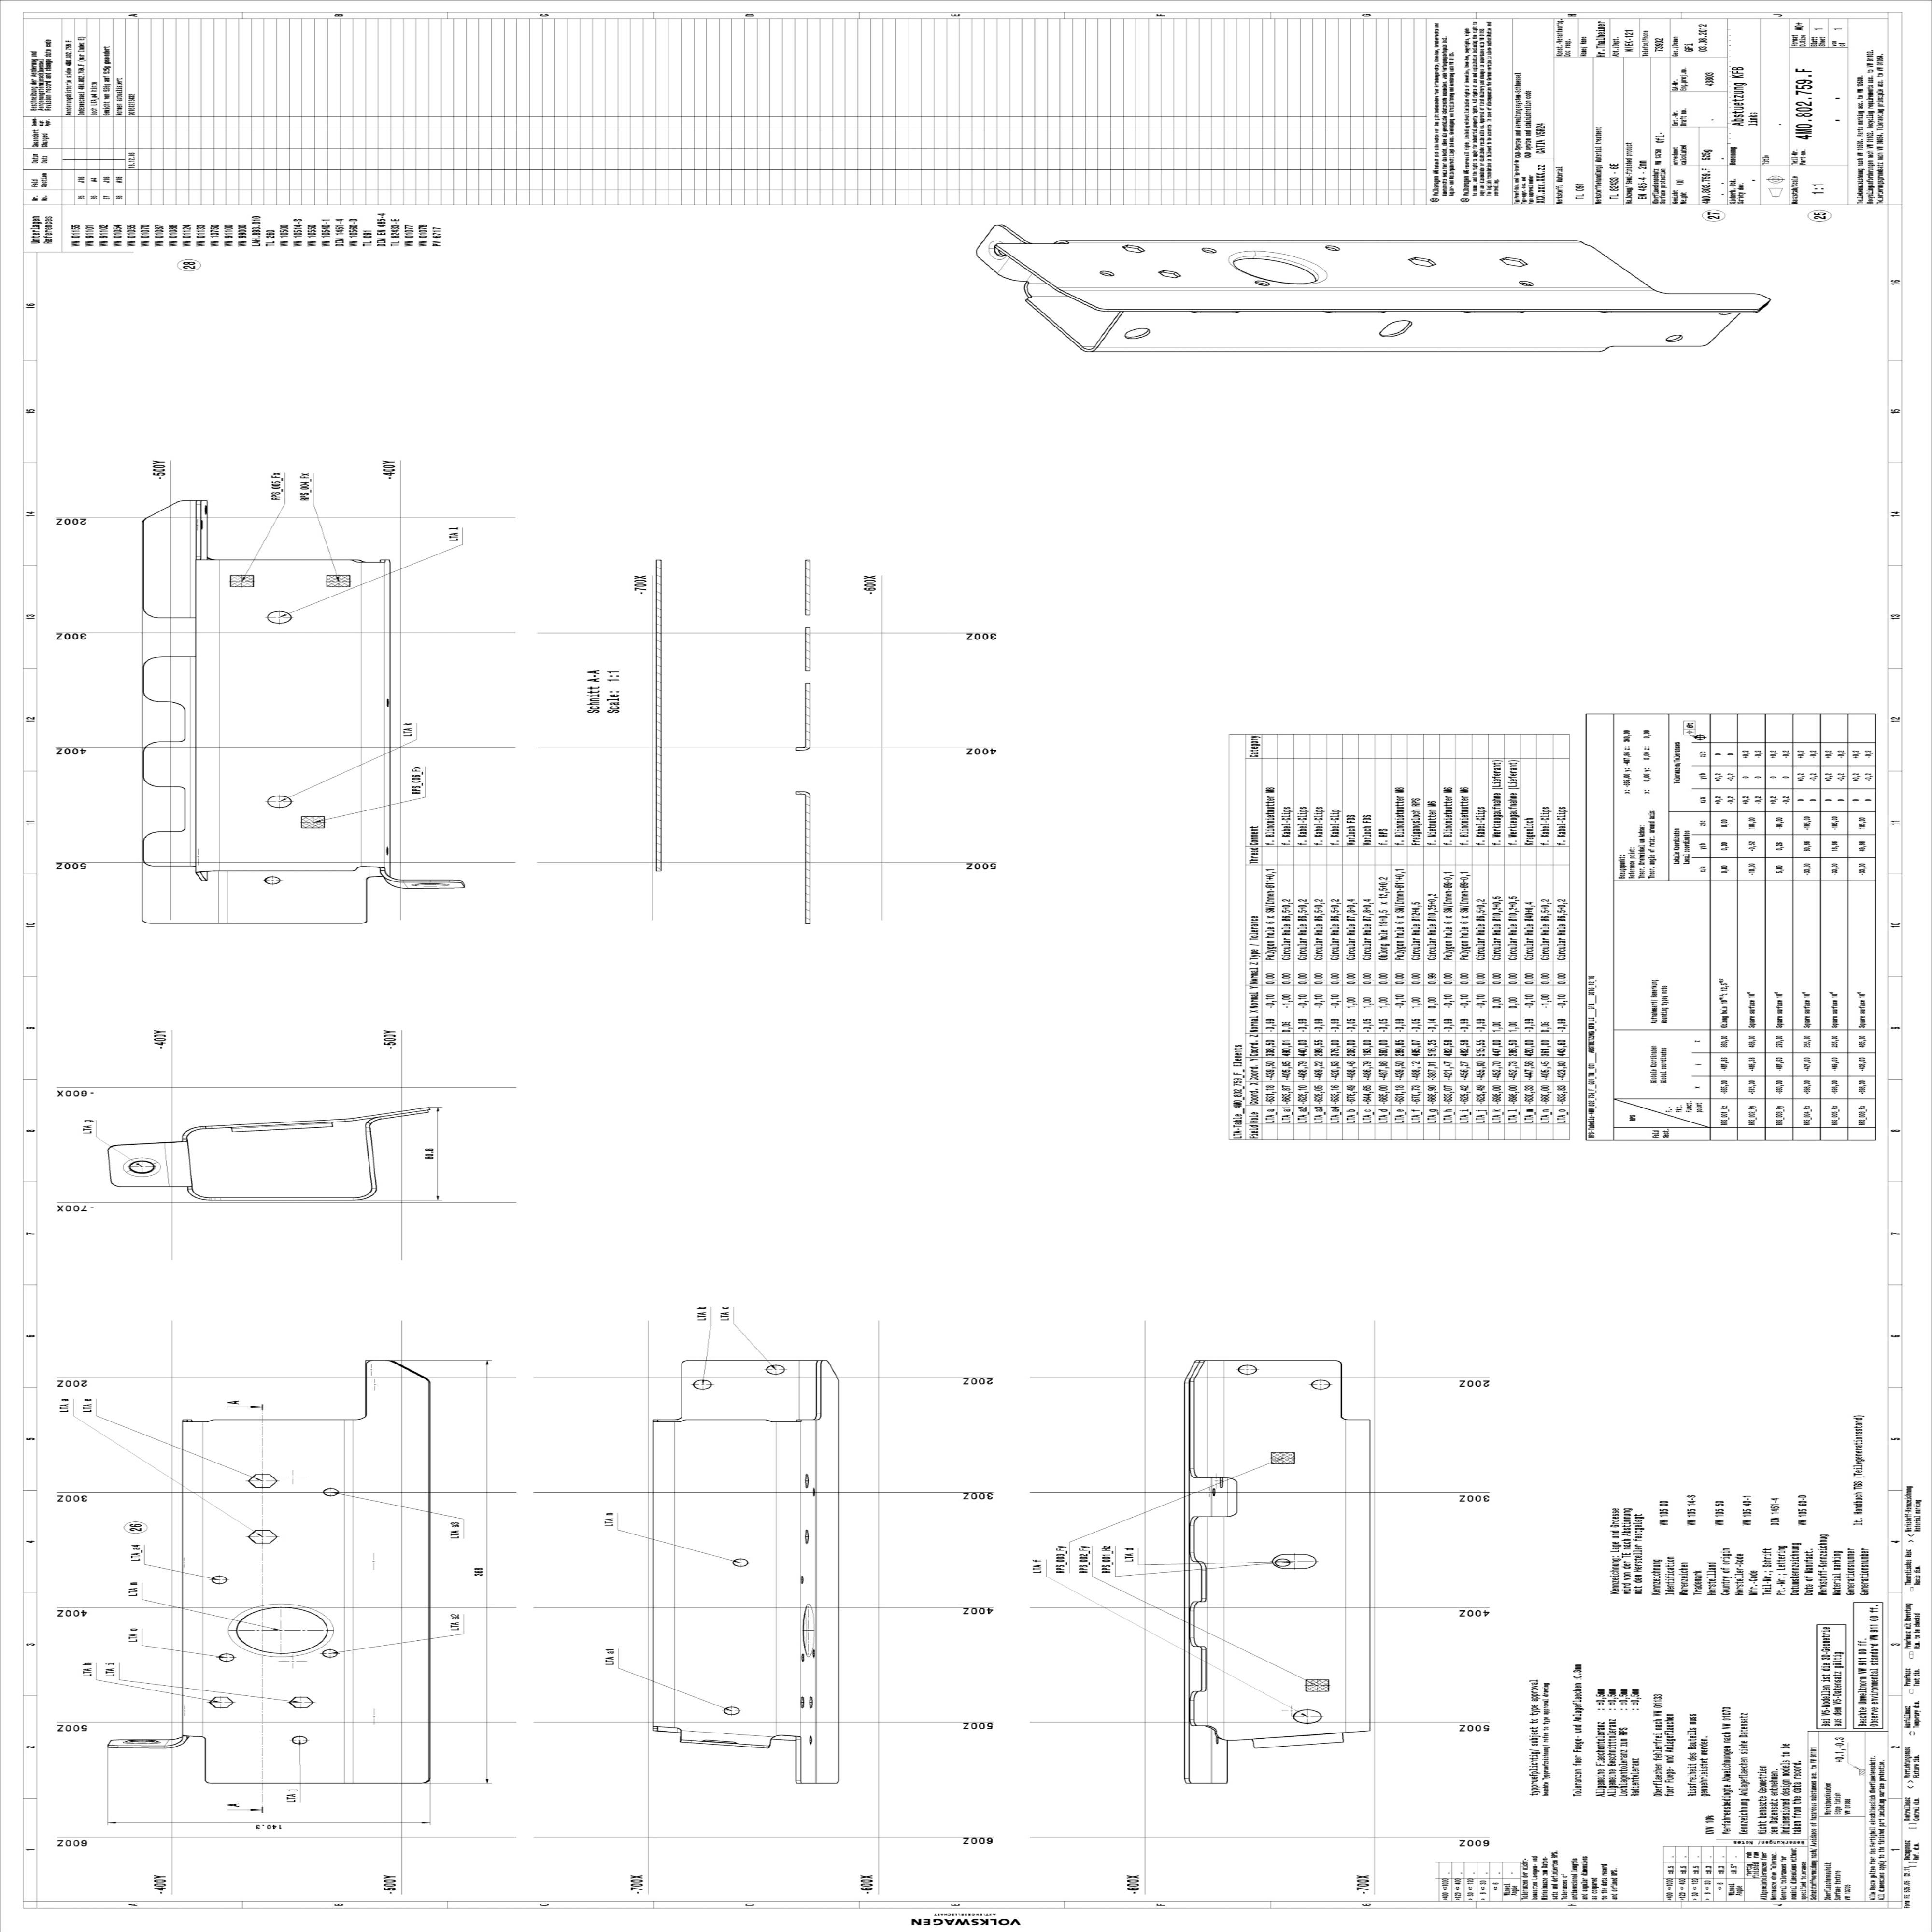BendingEdge: (357, 564, 387, 863), (773, 1426, 801, 1734), (1343, 1421, 1371, 1729), (195, 563, 223, 867), (179, 1426, 207, 1730), (649, 1426, 678, 1723), (1207, 1362, 1228, 1725), (340, 1421, 356, 1782), (1067, 237, 1576, 246), (1060, 285, 1647, 292)
BendingEdgeCurve: (165, 1732, 191, 1755), (364, 1185, 382, 1203), (1019, 280, 1033, 301), (180, 1125, 196, 1139), (189, 1187, 203, 1203), (364, 1118, 379, 1134), (1079, 343, 1097, 354)
InnerContour: (1272, 1552, 1318, 1571), (1378, 317, 1414, 340), (1288, 1706, 1323, 1725), (264, 793, 297, 812), (262, 607, 294, 625), (1123, 324, 1152, 341), (763, 1362, 789, 1378), (729, 1555, 754, 1571), (1235, 1362, 1260, 1378), (688, 1376, 715, 1391), (216, 1649, 237, 1665), (209, 1571, 230, 1585), (720, 1704, 741, 1718), (290, 1732, 310, 1746), (1097, 267, 1118, 280), (1198, 244, 1219, 257), (1663, 331, 1684, 343), (1309, 1378, 1330, 1391), (322, 1645, 340, 1660), (264, 876, 283, 888), (320, 1484, 340, 1497), (1322, 242, 1341, 253), (1518, 278, 1534, 287), (807, 1734, 816, 1744), (800, 1575, 805, 1587)
InnerContourAngular: (244, 1523, 281, 1548), (244, 1470, 281, 1491), (1403, 253, 1440, 271), (287, 1691, 317, 1711), (203, 1695, 237, 1711), (1497, 253, 1529, 269), (1155, 265, 1182, 281), (1120, 242, 1146, 257), (803, 1527, 812, 1545), (801, 1472, 810, 1488), (807, 1693, 814, 1711), (800, 1695, 805, 1709)
Notch: (136, 692, 188, 752), (143, 777, 189, 840), (1191, 1472, 1240, 1520), (1187, 1557, 1208, 1605), (1191, 1642, 1208, 1695)
ThroughHole: (228, 1599, 336, 1660), (1221, 239, 1330, 294), (120, 1157, 161, 1178), (801, 1601, 816, 1658), (984, 237, 1010, 262)
ThroughHoleExternal: (410, 883, 451, 890), (122, 1737, 161, 1744), (701, 1737, 738, 1744)
